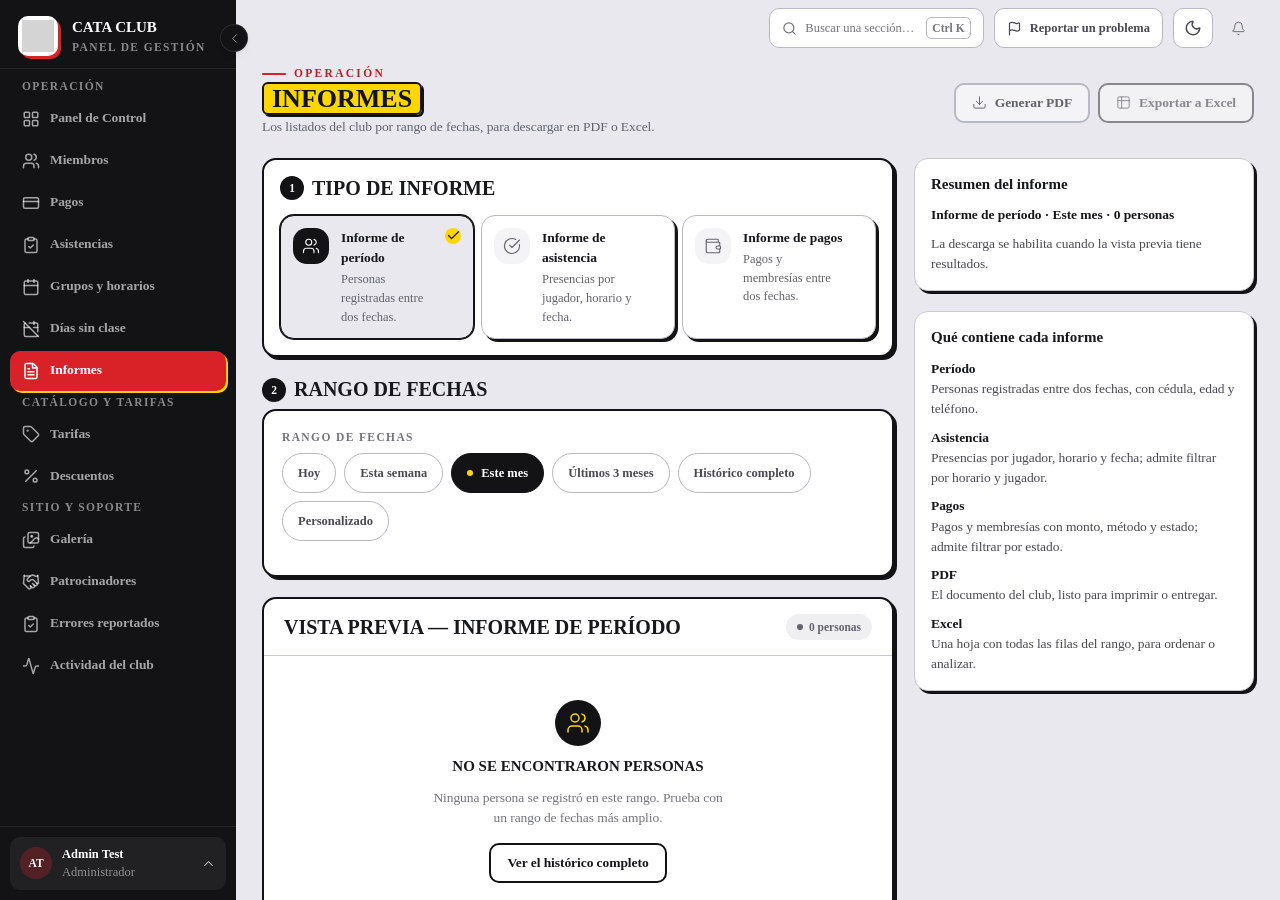
Test case: ReportsPage — preview area › tells the user what the empty canvas is waiting for, instead of sitting blank
What coordinates should you click on to do the following:
click the button "Personalizado"
I would click on:
 (336, 522)
Its box is [282,502,389,542].
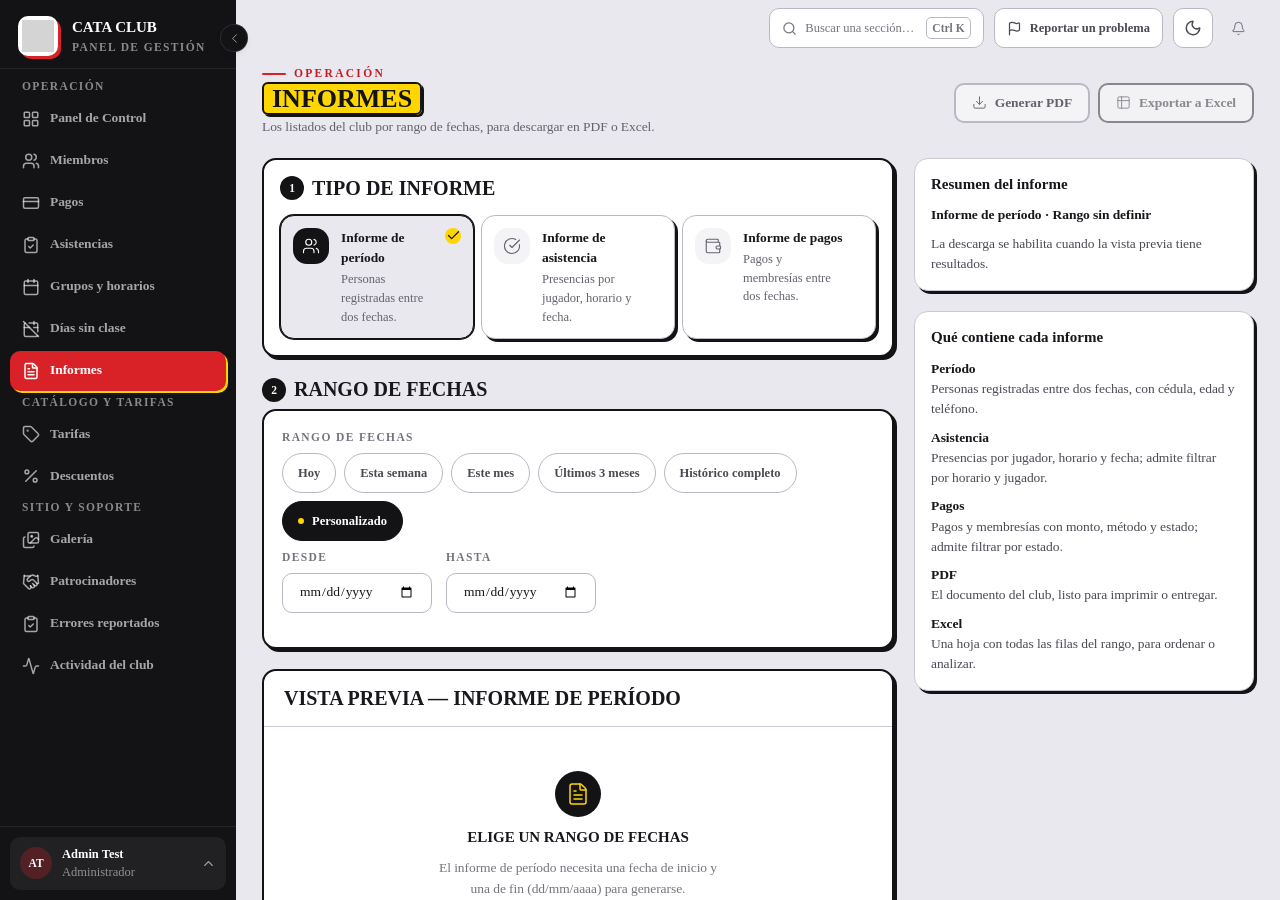
Expected: the heading "Vista previa — Informe de período" is shown, [284,687,681,709]
Expected: the text "Elige un rango de fechas" is shown, [467,827,689,848]
